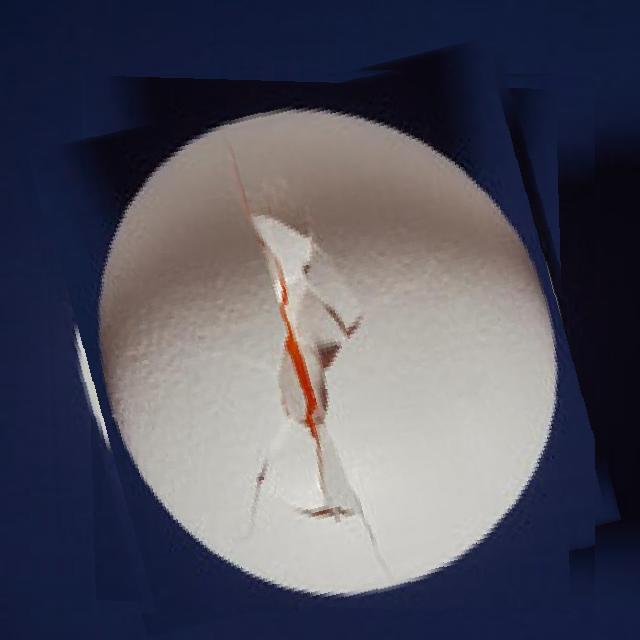biodegradable: (41, 60, 595, 613)
